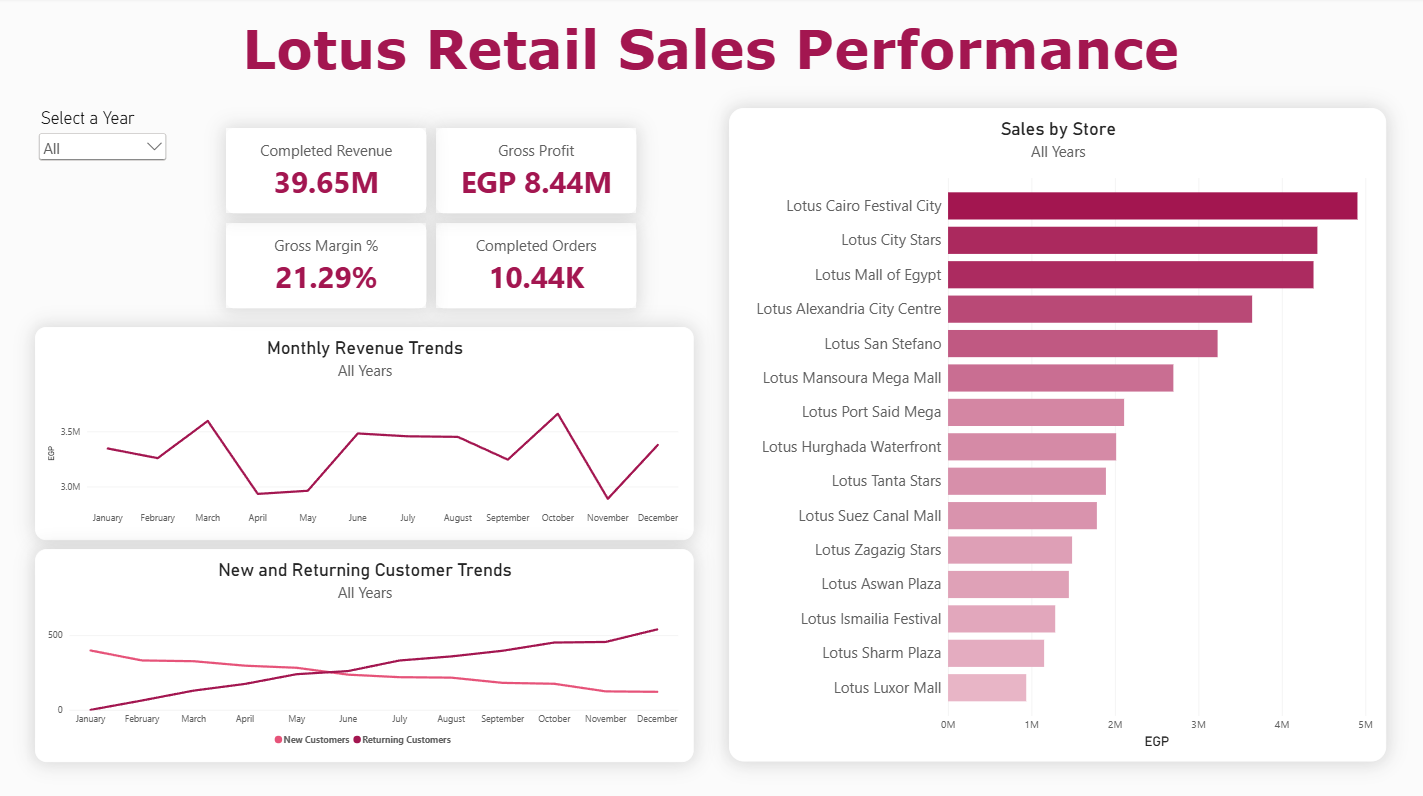

What the dashboard file says about the page in this screenshot:
{"tool":"powerbi","page":{"name":"Page 1","canvas":[1920,1080],"ordinal":0},"visuals":[{"type":"lineChart","title":"Monthly Revenue Trends","fields":{"Category":["fact_orders.Order Date.Variation.Date Hierarchy.Month"],"Y":["Sum(fact_orders.Total Revenue)"]},"box":[50,445,886.7,286.7],"z":0},{"type":"slicer","fields":{"Values":["dim_date.Year"]},"box":[50,150,181.7,78.3],"z":1000},{"type":"barChart","title":"Sales by Store","fields":{"Category":["dim_stores.Store Name"],"Y":["Sum(fact_orders.Total Revenue)"]},"box":[985,150,885,880],"z":2000},{"type":"lineChart","title":"New and Returning Customer Trends","fields":{"Category":["dim_date.Month Name"],"Y":["fact_orders.New Customers","fact_orders.Returning Customers (Display)"]},"box":[50,743.3,886.7,286.7],"z":3000},{"type":"cardVisual","fields":{"Data":["fact_orders.Completed Orders"]},"box":[590,304,270,115],"z":4000},{"type":"cardVisual","fields":{"Data":["fact_orders.Gross Profit"]},"box":[590,177,270,115],"z":5000},{"type":"cardVisual","fields":{"Data":["fact_orders.Gross Margin %"]},"box":[307,304,270,115],"z":6000},{"type":"textbox","box":[0,26,1920,98.3],"z":7000},{"type":"cardVisual","fields":{"Data":["fact_orders.Completed Revenue"]},"box":[306.7,176.7,270,115],"z":8000}]}

Visuals, with their boxes in screenshot pixels (x1, y1, x2, y2), scaled from the page's 1920x1080 canvas onto the 1423x796 screenshot:
"Monthly Revenue Trends" lineChart: [left=37, top=328, right=694, bottom=539]
slicer - dim_date.Year: [left=37, top=111, right=172, bottom=168]
"Sales by Store" barChart: [left=730, top=111, right=1386, bottom=759]
"New and Returning Customer Trends" lineChart: [left=37, top=548, right=694, bottom=759]
cardVisual - fact_orders.Completed Orders: [left=437, top=224, right=637, bottom=309]
cardVisual - fact_orders.Gross Profit: [left=437, top=130, right=637, bottom=215]
cardVisual - fact_orders.Gross Margin %: [left=228, top=224, right=428, bottom=309]
textbox: [left=0, top=19, right=1422, bottom=92]
cardVisual - fact_orders.Completed Revenue: [left=227, top=130, right=427, bottom=215]
